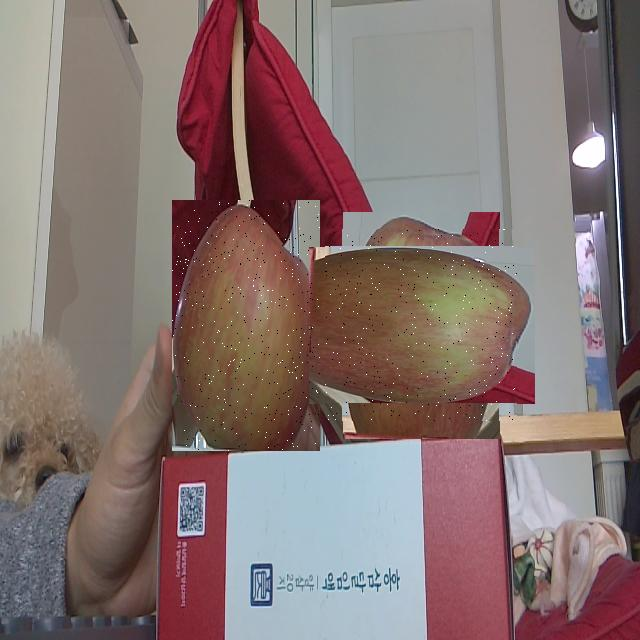apple: (172, 200, 320, 451), (326, 229, 518, 422)
